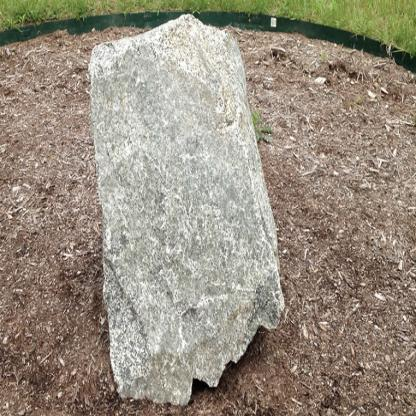Igneous_Diorite: (83, 12, 286, 411)
